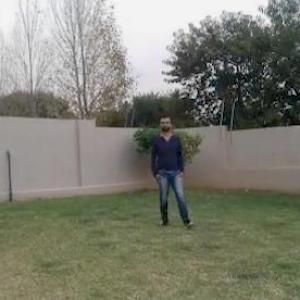follow: (155, 112, 184, 224)
